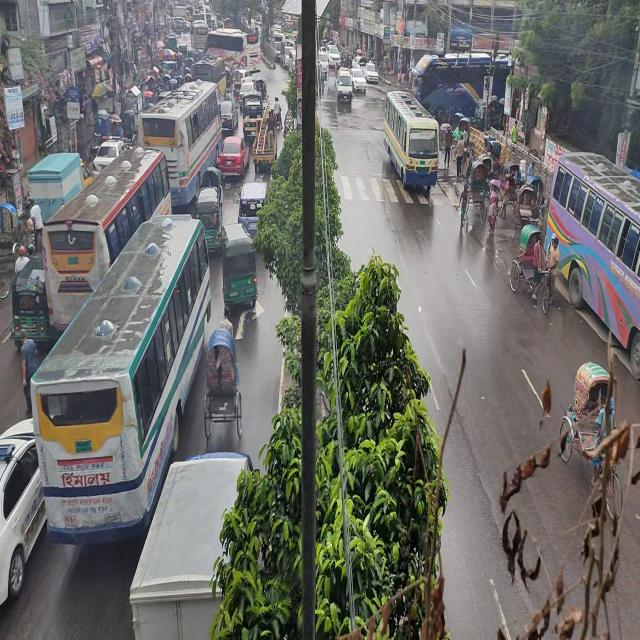red: (217, 136, 250, 184)
